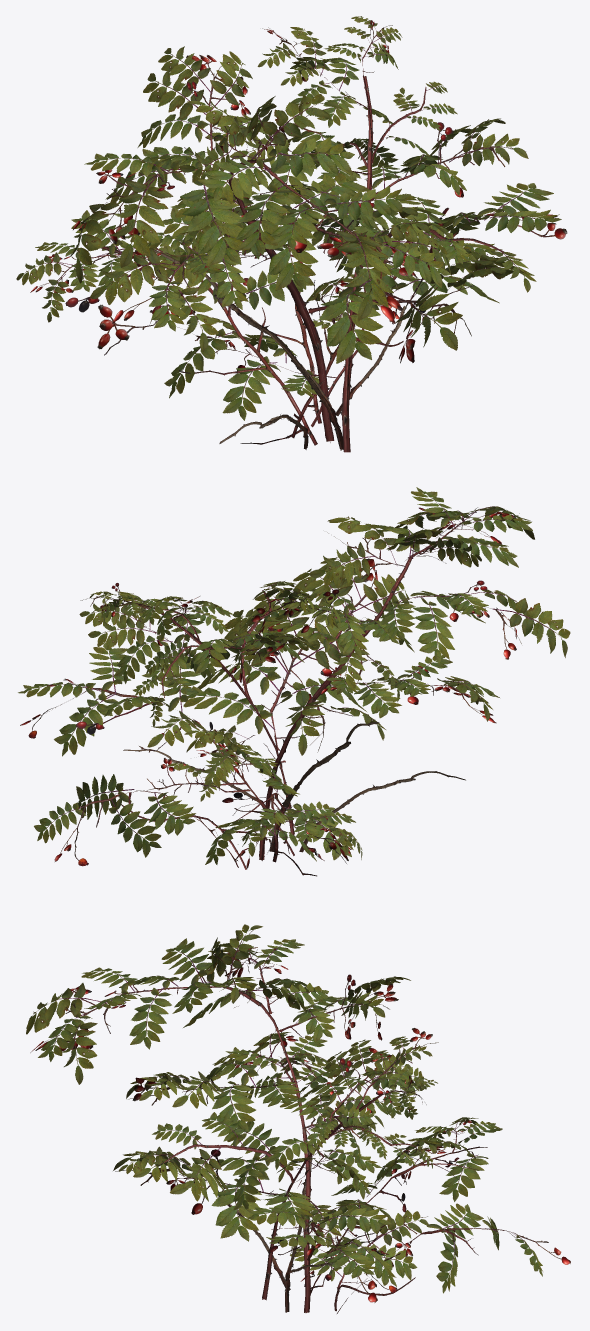
The model's file is wild_rose_02_LOD0.FBX.
The picture shows the model from 3 angles, top to bottom: view 1: azimuth 30°, elevation 25°; view 2: azimuth 150°, elevation 25°; view 3: azimuth 270°, elevation 25°; orthographic projection. The views are drawn at different scales.
Visible parts, largest first — view 1: wild_rose_02_LOD0; view 2: wild_rose_02_LOD0; view 3: wild_rose_02_LOD0.
Boxes of the visible parts, x1,y1,x2,y2 form: wild_rose_02_LOD0: (16,16,567,452); wild_rose_02_LOD0: (18,487,570,876); wild_rose_02_LOD0: (26,924,570,1313).
Bounding box in the file's own units: 141 × 97.04 × 151.
